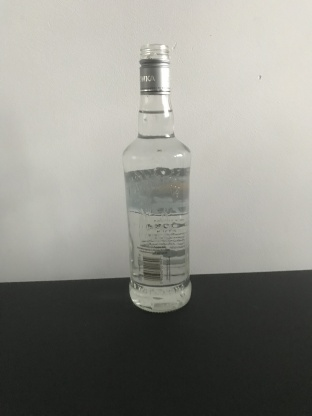nakretka: (137, 43, 172, 95)
